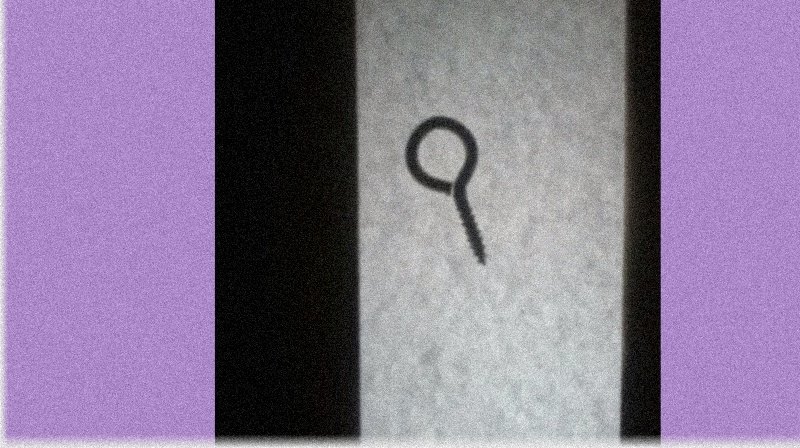O001: (401, 110, 492, 268)
